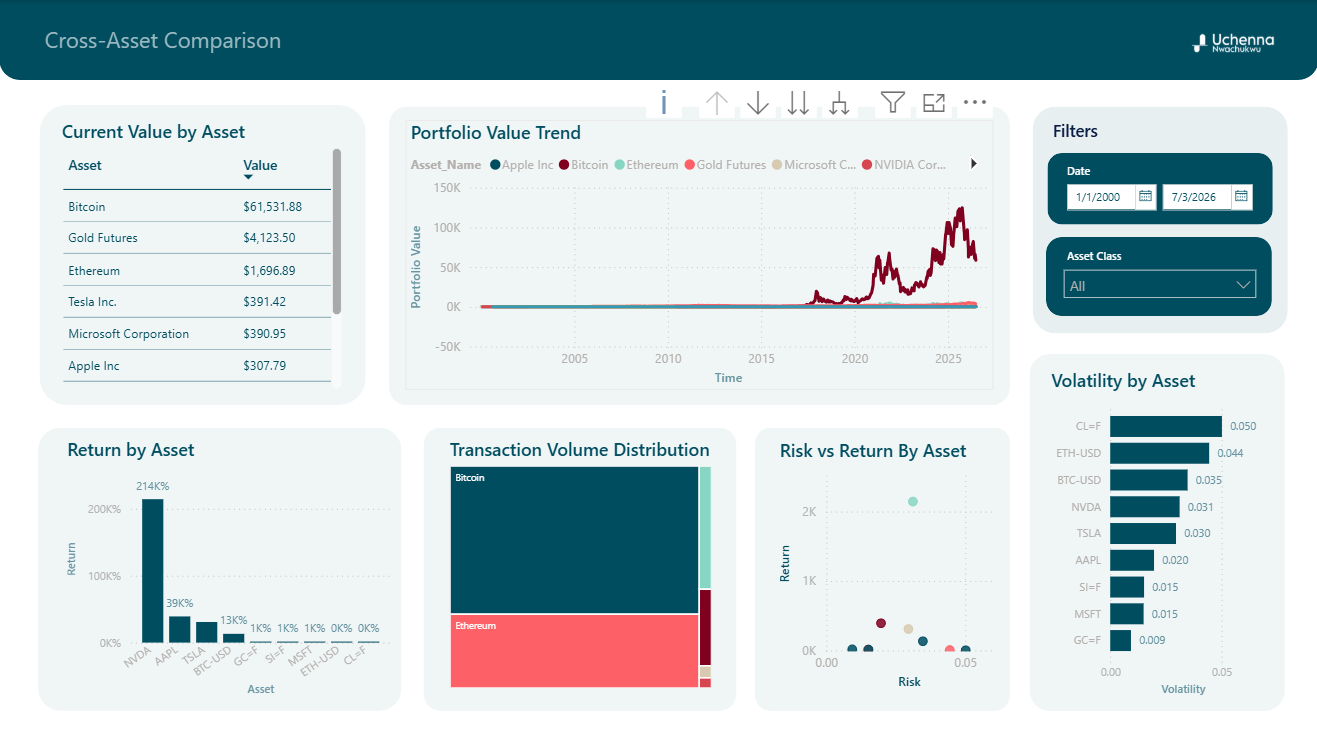

The page's visual inventory and layout, read from the dashboard file:
{"tool":"powerbi","page":{"name":"Cross Asset Comparison","canvas":[1280,720],"ordinal":1},"visuals":[{"type":"shape","box":[0,0,1280.8,77.7],"z":0},{"type":"shape","box":[40,102.2,316.7,291.1],"z":1000},{"type":"shape","box":[0,0,1280.8,42.1],"z":2000},{"type":"textbox","box":[38.9,17.8,451.8,45.3],"z":3000},{"type":"image","box":[1157.7,32.4,81,19.4],"z":4000},{"type":"tableEx","title":"Current Value by Asset","fields":{"Values":["market_data.Asset_Name","market_data.End Price"]},"box":[61.1,115.6,271.1,262.2],"z":5000},{"type":"shape","box":[412.5,415,303.8,275],"z":6000},{"type":"shape","box":[1002.3,103.6,247.7,220.2],"z":7000},{"type":"treemap","title":"Transaction Volume Distribution","fields":{"Group":["market_data.Asset_Name"],"Values":["Sum(market_data.Volume)"]},"box":[432.5,423.8,263.8,248.8],"z":8000},{"type":"shape","box":[378.8,103.8,602.5,290],"z":9000},{"type":"lineChart","title":"Portfolio Value Trend","fields":{"Category":["Date Table.Full Year Hierarchy.Date","Date Table.Full Year Hierarchy.full month","Date Table.Full Year Hierarchy.Full Quarter","Date Table.Full Year Hierarchy.Full Year"],"Series":["market_data.Asset_Name"],"Y":["Sum(market_data.Close)"]},"box":[393.8,116.2,571.2,262.5],"z":10000},{"type":"shape","box":[38.6,414.3,352.9,275],"z":11000},{"type":"clusteredColumnChart","title":"Return by Asset","fields":{"Y":["market_data.Total Return"],"Category":["market_data.Ticker"]},"box":[61.1,423.3,323.3,256.7],"z":12000},{"type":"shape","box":[1016.9,149,218.6,69.3],"z":13000},{"type":"slicer","fields":{"Values":["Date Table.Date"]},"box":[1023.4,153.3,206.4,60.7],"z":14000},{"type":"shape","box":[1016.7,230,219.2,76.7],"z":15000},{"type":"textbox","box":[1017.8,111.1,61.1,33.3],"z":16000},{"type":"slicer","fields":{"Values":["market_data.Asset_Class"]},"box":[1023.3,235.8,206.7,65],"z":17000},{"type":"shape","box":[1000.7,343.3,247.7,346.5],"z":18000},{"type":"clusteredBarChart","title":"Volatility by Asset","fields":{"Category":["market_data.Ticker"],"Y":["market_data.Volatility"]},"box":[1016.4,356.4,219.1,323.6],"z":19000},{"type":"shape","box":[733.8,415,247.5,275],"z":20000},{"type":"scatterChart","title":"Risk vs Return By Asset","fields":{"Category":["market_data.Asset_Name"],"Y":["market_data.Total Return"],"X":["market_data.Volatility"]},"box":[752.5,425,228.8,248.8],"z":21000}]}

Visuals, with their boxes in screenshot pixels (x1, y1, x2, y2), scaled from the page's 1280x720 canvas onto the 1317x741 screenshot:
shape: BBox(0, 0, 1316, 80)
shape: BBox(41, 105, 367, 405)
shape: BBox(0, 0, 1316, 43)
textbox: BBox(40, 18, 505, 65)
image: BBox(1191, 33, 1275, 53)
"Current Value by Asset" tableEx: BBox(63, 119, 342, 389)
shape: BBox(424, 427, 737, 710)
shape: BBox(1031, 107, 1286, 333)
"Transaction Volume Distribution" treemap: BBox(445, 436, 716, 692)
shape: BBox(390, 107, 1010, 405)
"Portfolio Value Trend" lineChart: BBox(405, 120, 993, 390)
shape: BBox(40, 426, 403, 709)
"Return by Asset" clusteredColumnChart: BBox(63, 436, 396, 700)
shape: BBox(1046, 153, 1271, 225)
slicer - Date Table.Date: BBox(1053, 158, 1265, 220)
shape: BBox(1046, 237, 1272, 316)
textbox: BBox(1047, 114, 1110, 149)
slicer - market_data.Asset_Class: BBox(1053, 243, 1266, 310)
shape: BBox(1030, 353, 1284, 710)
"Volatility by Asset" clusteredBarChart: BBox(1046, 367, 1271, 700)
shape: BBox(755, 427, 1010, 710)
"Risk vs Return By Asset" scatterChart: BBox(774, 437, 1010, 693)
